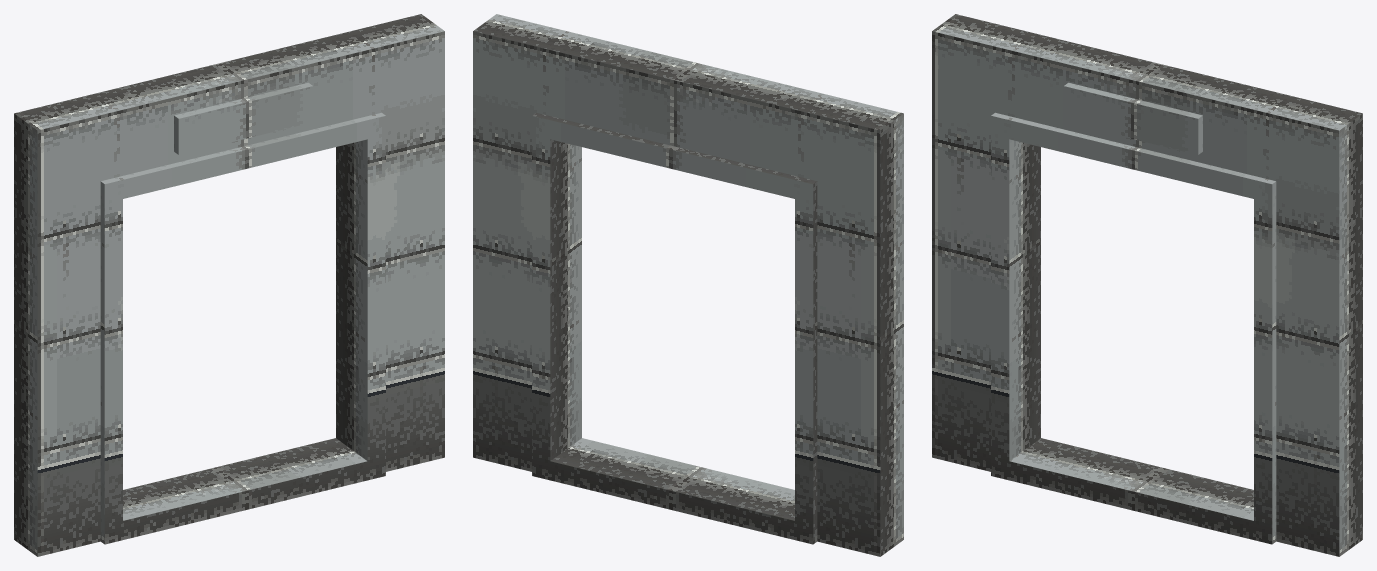
Rendered from arch_doorway.glb.
3 renders of one model, left to right at view 1: azimuth 30°, elevation 25°; view 2: azimuth 150°, elevation 25°; view 3: azimuth 330°, elevation 25°, orthographic.
Parts seen in each view (by area): view 1: doorway; view 2: doorway; view 3: doorway.
Part boxes in pixels (x1,y1,x2,y2): doorway: (14, 14, 444, 556); doorway: (473, 14, 903, 556); doorway: (932, 14, 1362, 556).
Size of the model in its own units: 4 by 4 by 0.55.
1 material, 1 textured.
